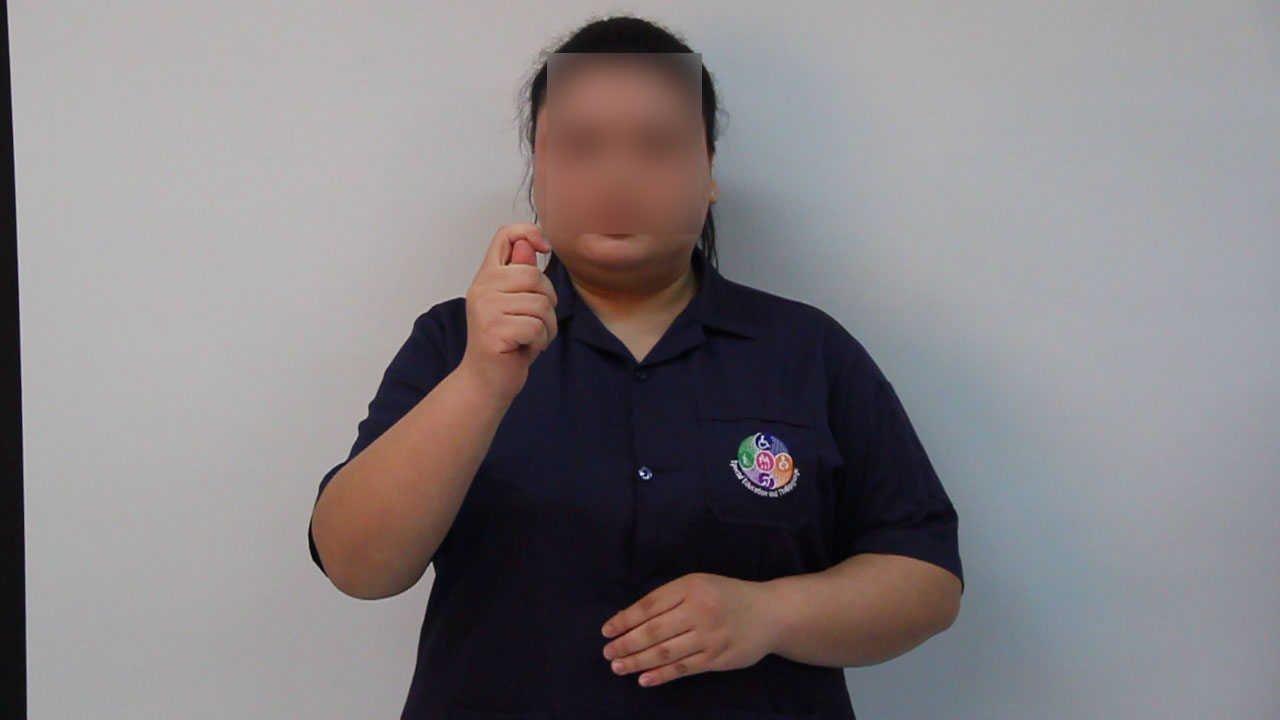or: (459, 219, 566, 405)
